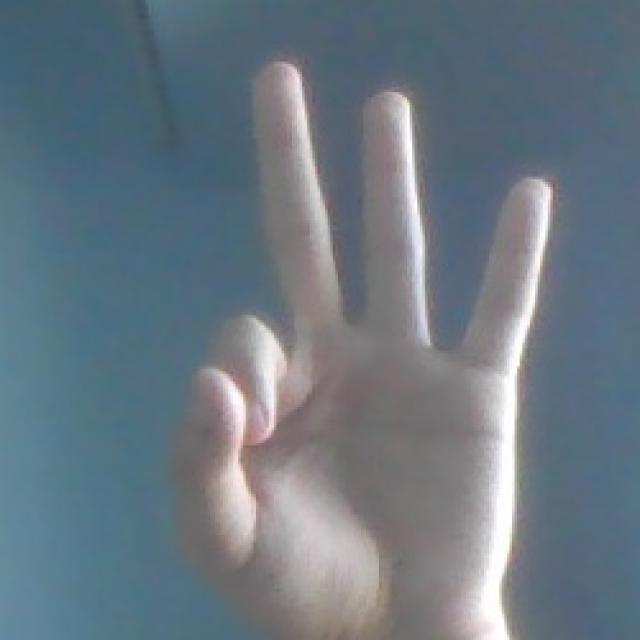Numeric-9: (151, 50, 553, 630)
